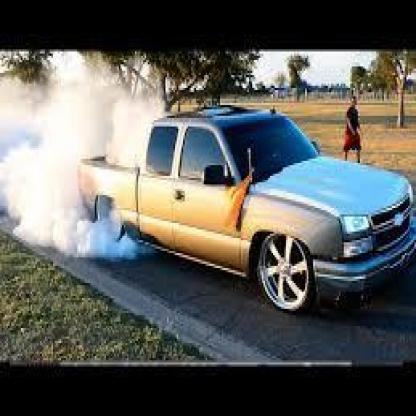smoke: (2, 64, 139, 259)
